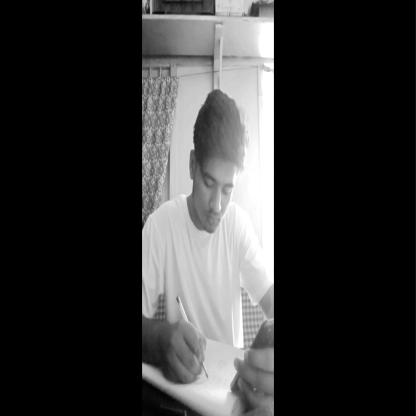Distracted: (189, 85, 242, 232)
